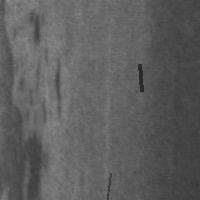inclusion: (1, 1, 44, 199), (26, 55, 64, 122), (10, 9, 40, 47), (103, 171, 112, 200), (137, 62, 143, 93)
